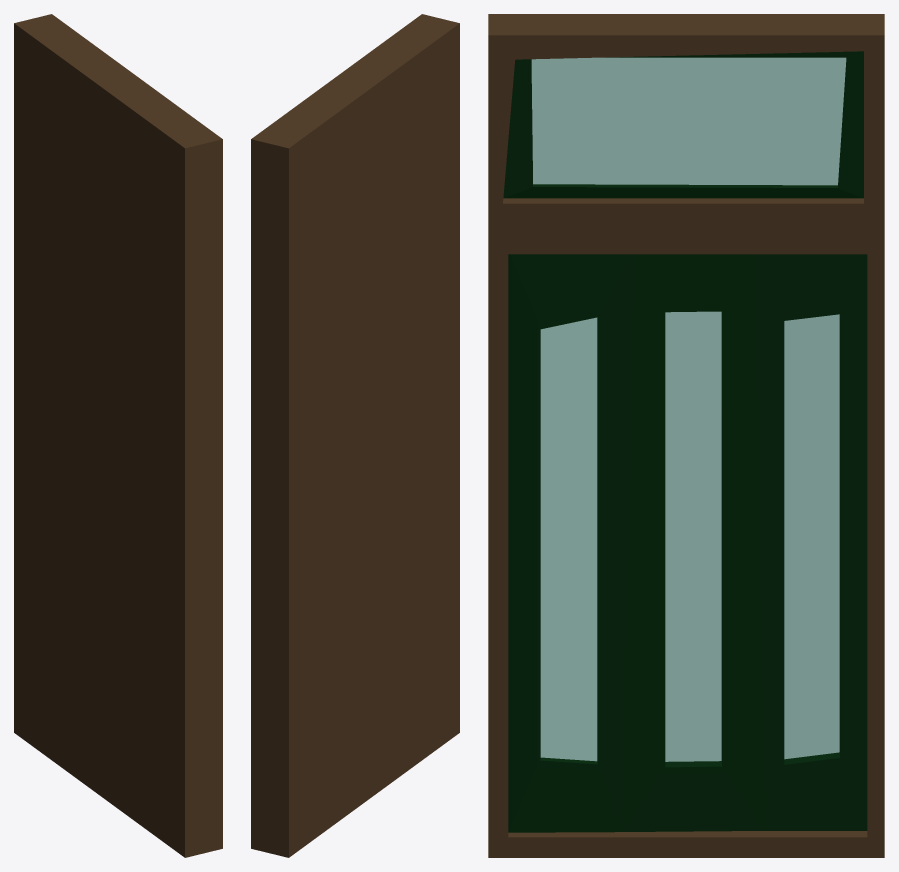
Rendered from Door13.fbx.
The picture shows the model from 3 angles, left to right: view 1: azimuth 30°, elevation 25°; view 2: azimuth 150°, elevation 25°; view 3: azimuth 270°, elevation 25°; orthographic projection. The views are drawn at different scales.
Parts seen in each view (by area): view 1: Cube.046; view 2: Cube.046; view 3: Cube.046.
Part boxes in pixels (x1,y1,x2,y2): Cube.046: [14, 14, 222, 857]; Cube.046: [251, 14, 459, 857]; Cube.046: [488, 14, 884, 857].
Size of the model in its own units: 14.57 by 261 by 114.
